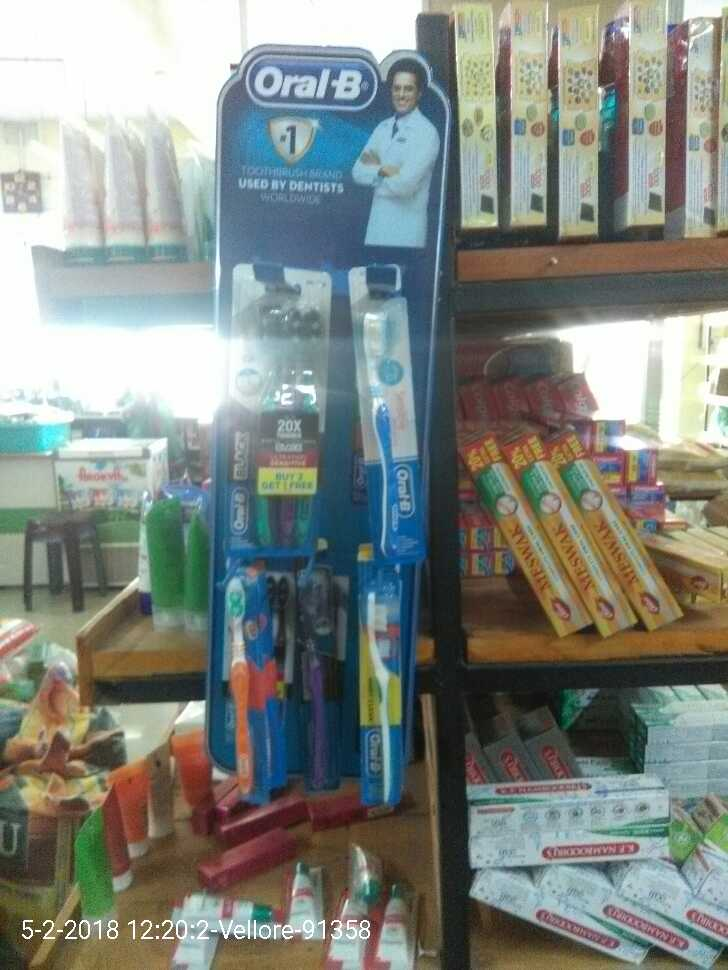oralb: (238, 304, 328, 555), (354, 305, 411, 564), (364, 576, 415, 814), (222, 583, 267, 785)
